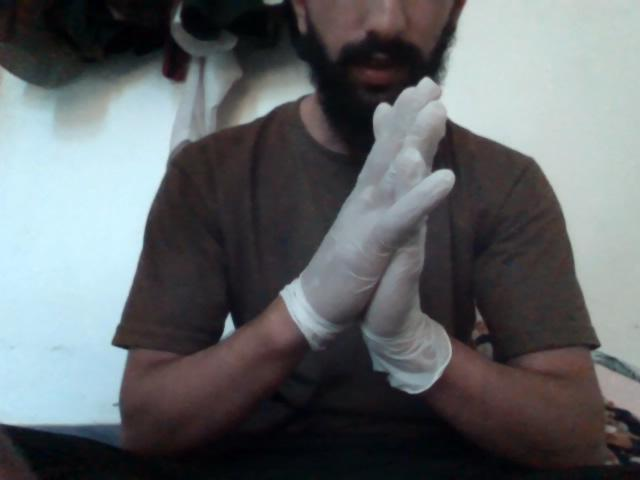gloves: (283, 78, 487, 398)
